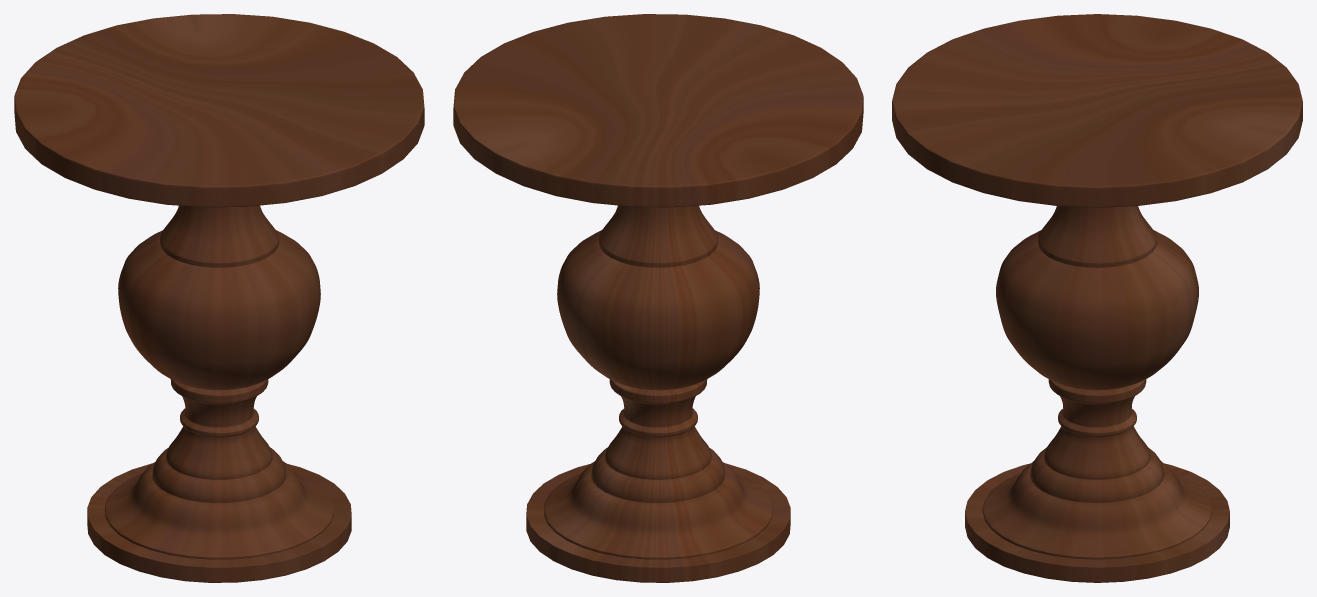
File: Table.obj
The picture shows the model from 3 angles, left to right: view 1: azimuth 30°, elevation 25°; view 2: azimuth 150°, elevation 25°; view 3: azimuth 270°, elevation 25°; orthographic projection.
Parts seen in each view (by area): view 1: Object01; view 2: Object01; view 3: Object01.
Boxes of the visible parts, x1=… form: Object01: x1=14, y1=14, x2=424, y2=582; Object01: x1=453, y1=14, x2=863, y2=582; Object01: x1=892, y1=14, x2=1302, y2=582.
Size of the model in its own units: 22.71 by 26.03 by 22.71.
1 material, 1 textured.
